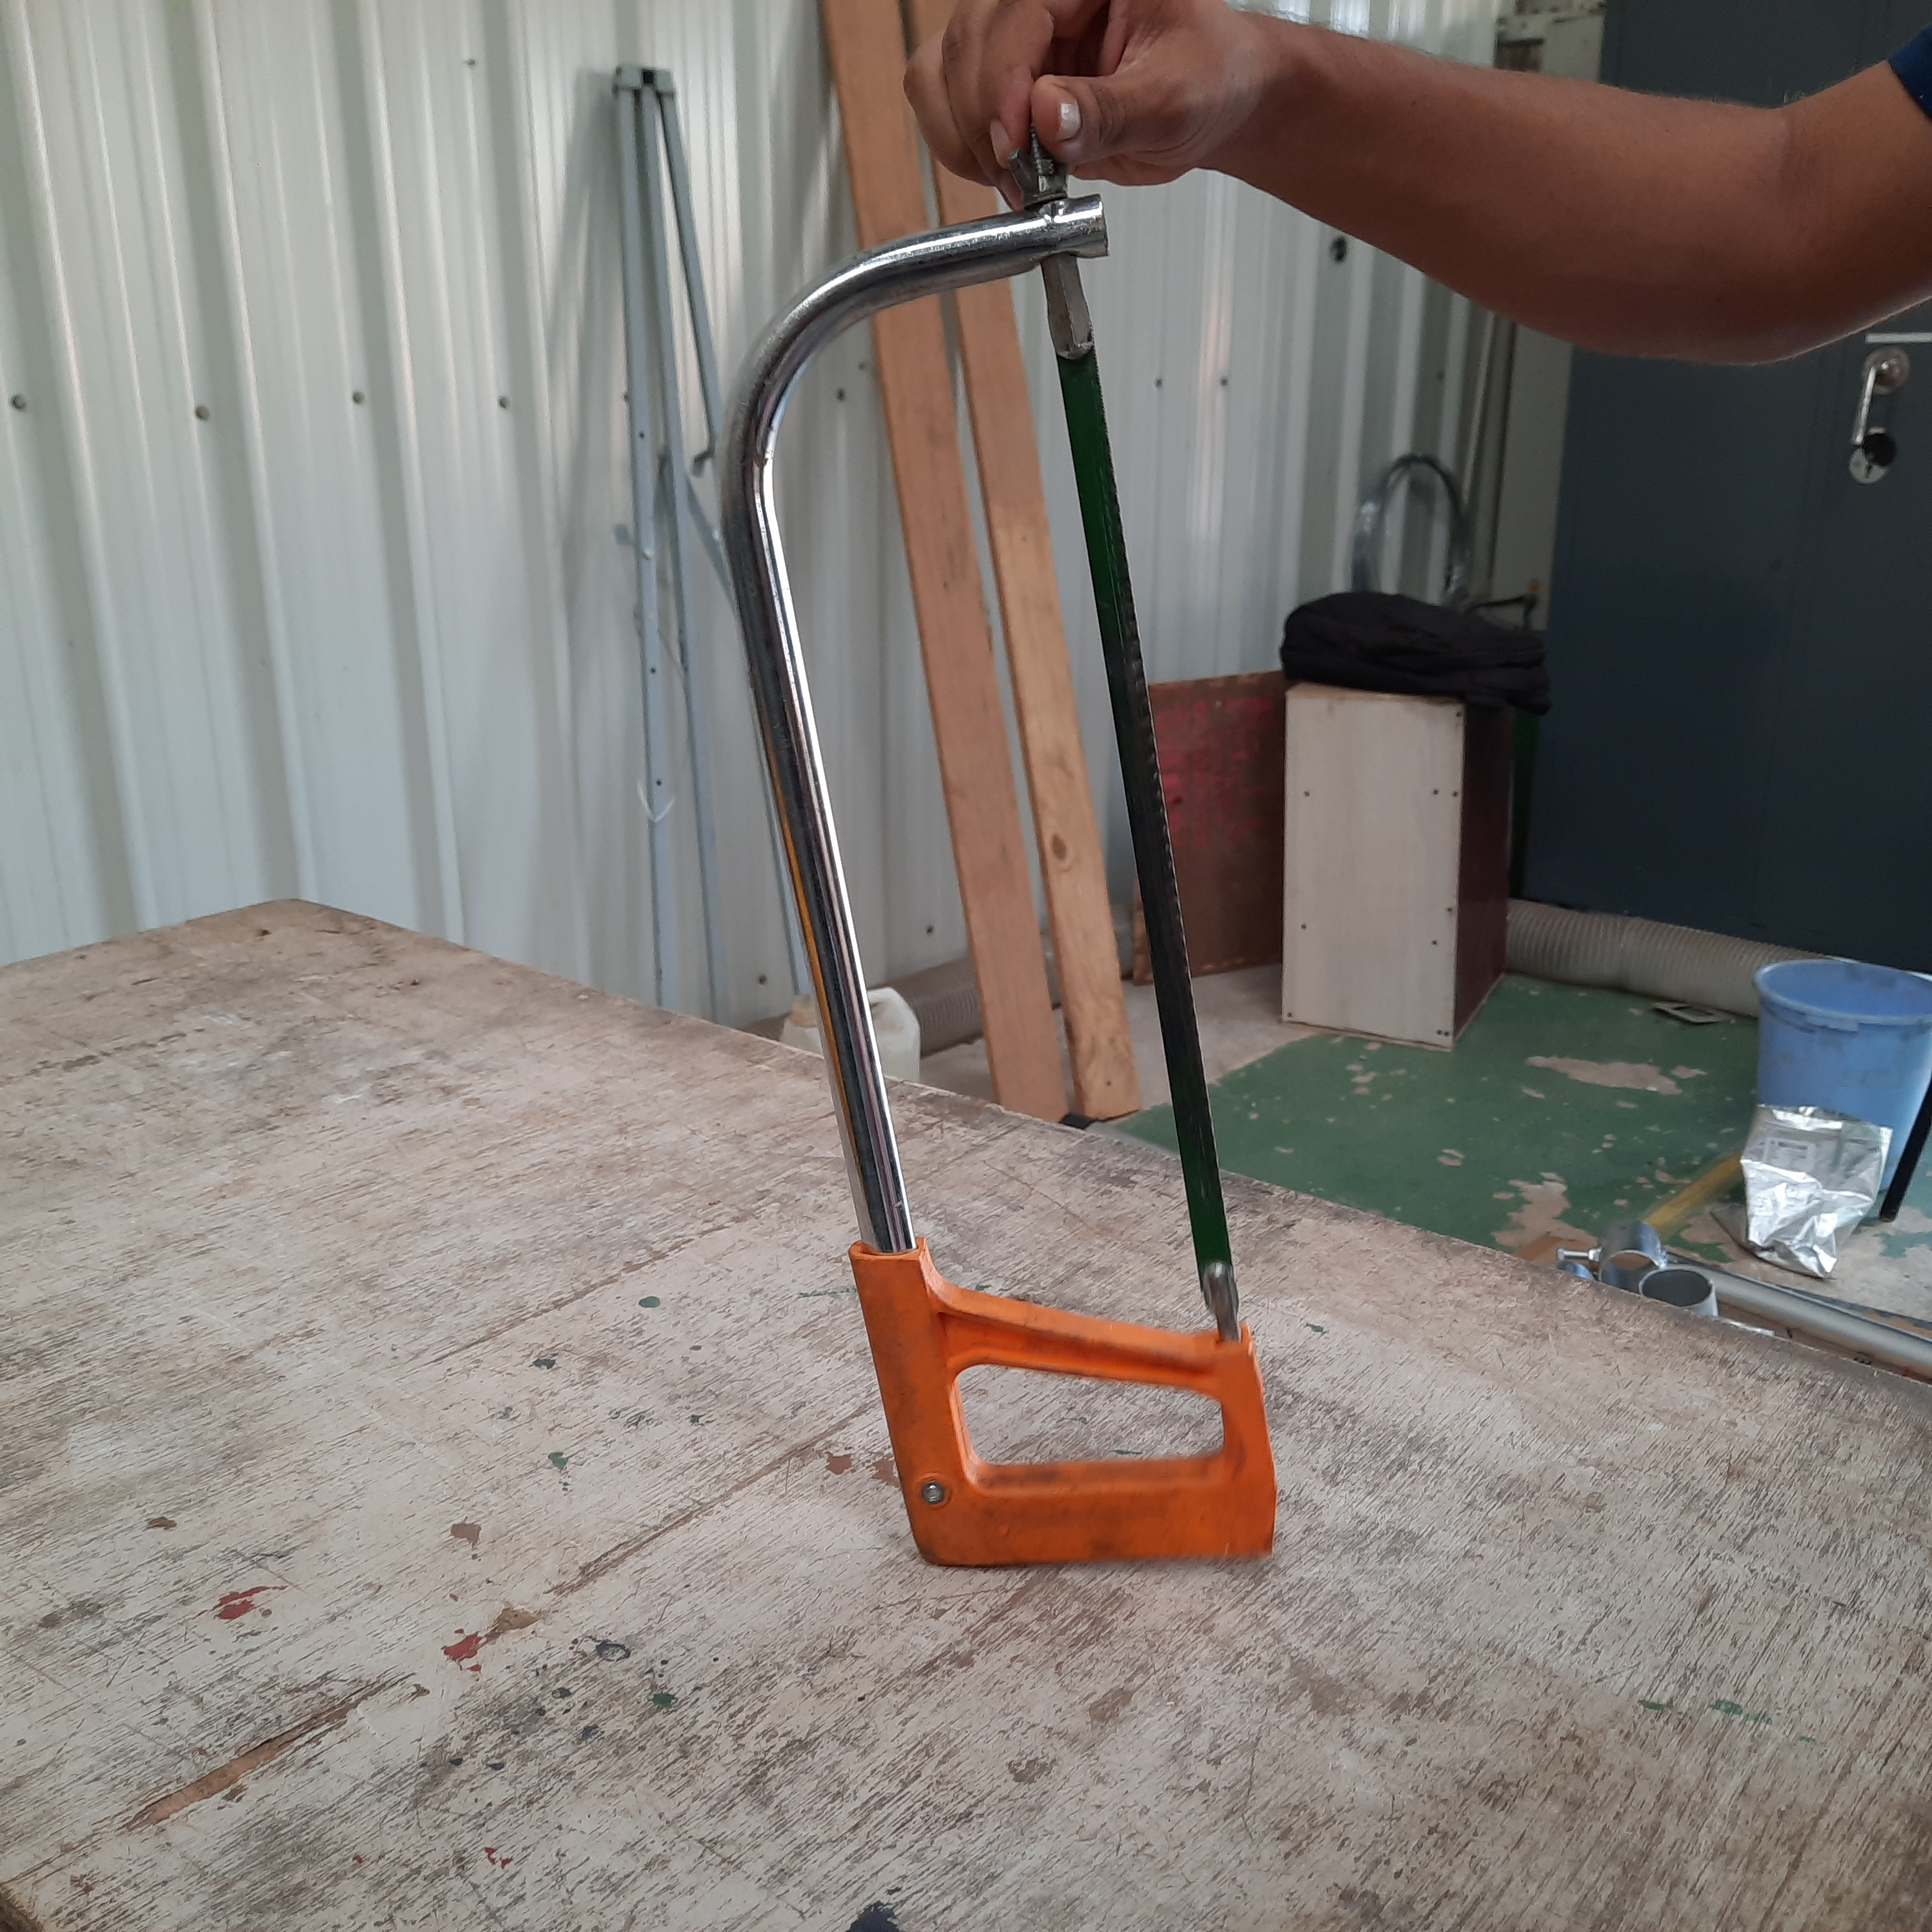Hexaframe: (658, 111, 1300, 1605)
